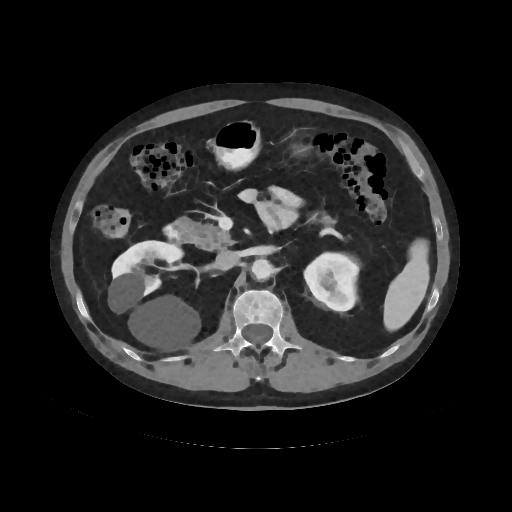Lesion: (121, 292, 205, 355)
